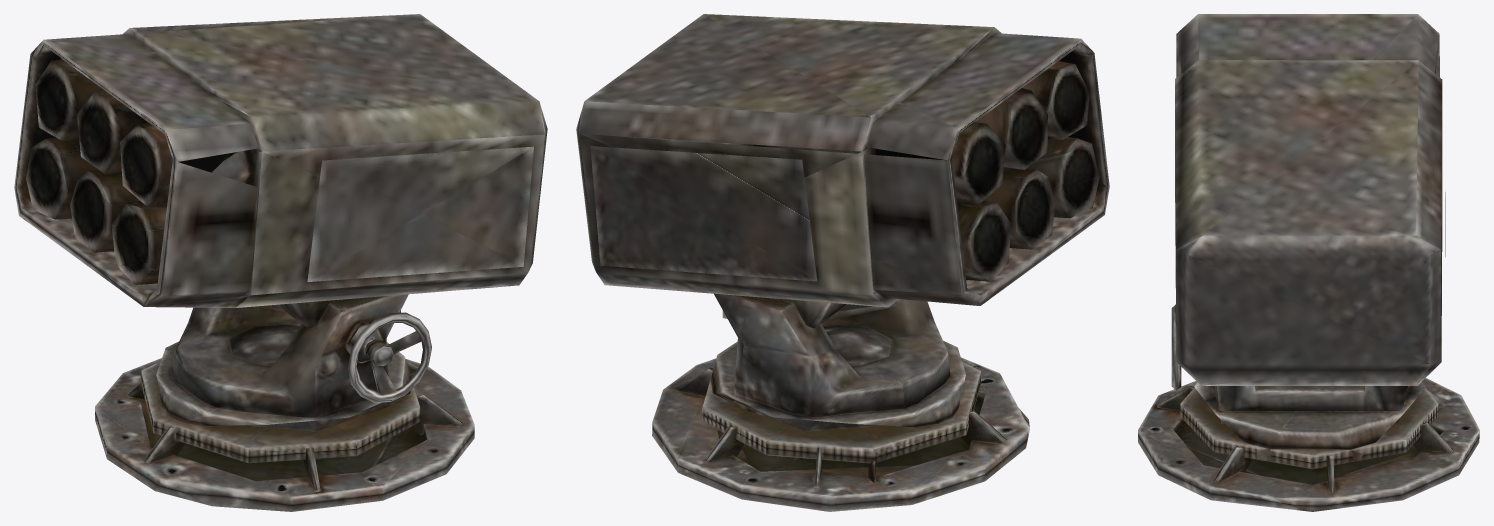
The model's file is big_rig_launcher.glb.
The picture shows the model from 3 angles, left to right: view 1: azimuth 30°, elevation 25°; view 2: azimuth 150°, elevation 25°; view 3: azimuth 270°, elevation 25°; orthographic projection. The views are drawn at different scales.
Parts seen in each view (by area): view 1: geometry_0; view 2: geometry_0; view 3: geometry_0.
Part boxes in pixels (x1,y1,x2,y2): geometry_0: (14,14,547,511); geometry_0: (576,14,1109,511); geometry_0: (1138,14,1479,511).
Bounding box in the file's own units: 0.9531 × 0.8926 × 0.792.
Materials: 1 (1 with a texture image).
